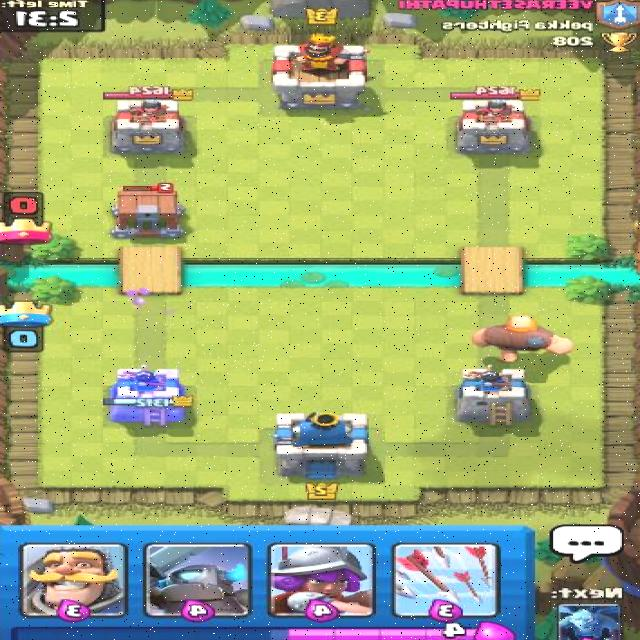Enemy-GoblinCage: (103, 182, 192, 240)
Player-Giant: (470, 314, 577, 364)
